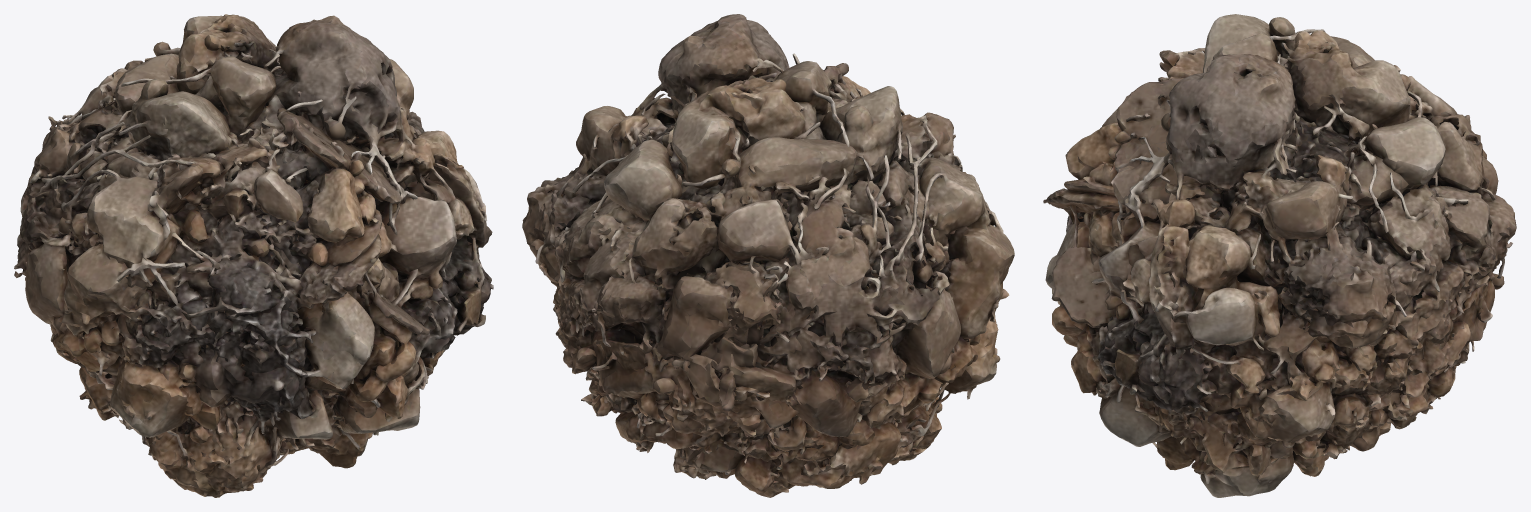
Rendered from soil-aggregate-v18.glb.
The picture shows the model from 3 angles, left to right: view 1: azimuth 30°, elevation 25°; view 2: azimuth 150°, elevation 25°; view 3: azimuth 270°, elevation 25°; orthographic projection.
Parts seen in each view (by area): view 1: geometry_0; view 2: geometry_0; view 3: geometry_0.
Boxes of the visible parts, x1=… form: geometry_0: x1=14, y1=14, x2=493, y2=497; geometry_0: x1=522, y1=14, x2=1014, y2=497; geometry_0: x1=1043, y1=14, x2=1516, y2=497.
Size of the model in its own units: 0.3 by 0.3004 by 0.2993.
Materials: 1 (1 with a texture image).
